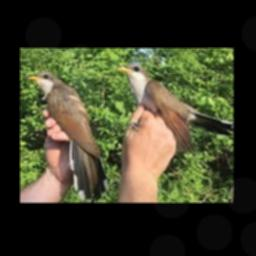Cuckoo: (118, 64, 233, 155), (28, 71, 107, 201)
